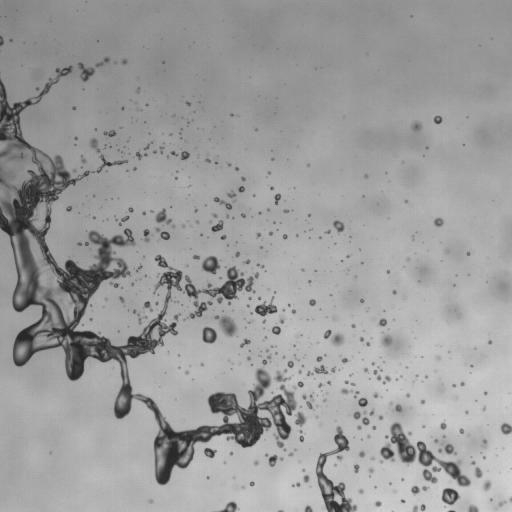droplet: (90, 138, 126, 172), (214, 315, 237, 336), (254, 297, 277, 316), (201, 256, 220, 274), (441, 488, 460, 505), (323, 330, 343, 346), (78, 62, 94, 81), (202, 326, 217, 343), (155, 209, 171, 224), (352, 411, 369, 425), (266, 454, 282, 466), (295, 411, 306, 426), (211, 220, 223, 231), (333, 220, 344, 232), (381, 334, 392, 346), (500, 422, 511, 434), (204, 448, 216, 457), (143, 229, 150, 242), (412, 121, 421, 131), (143, 301, 152, 311), (474, 467, 482, 478), (180, 151, 189, 160), (240, 339, 250, 347), (483, 480, 491, 490), (467, 504, 478, 511), (433, 115, 442, 123), (103, 130, 115, 136), (434, 218, 443, 226), (272, 325, 280, 334), (358, 398, 367, 406), (138, 315, 146, 323), (394, 404, 402, 412), (274, 194, 280, 204), (379, 318, 386, 326), (136, 152, 145, 158), (304, 505, 313, 511), (228, 191, 235, 198), (440, 421, 446, 429), (482, 439, 487, 448), (279, 316, 285, 323), (341, 357, 348, 363), (358, 451, 365, 457), (303, 475, 309, 482), (354, 465, 359, 473), (292, 482, 300, 487), (238, 186, 244, 192), (309, 299, 315, 305), (287, 361, 293, 367), (368, 468, 374, 474), (374, 501, 381, 506), (498, 501, 505, 506), (81, 156, 86, 162), (136, 265, 141, 271), (316, 356, 322, 361), (370, 409, 375, 415), (66, 206, 71, 211), (128, 207, 133, 212), (119, 297, 124, 302), (331, 367, 336, 372), (159, 146, 163, 152), (193, 255, 199, 259), (244, 259, 250, 263), (122, 59, 126, 64), (171, 151, 176, 155), (221, 235, 226, 239), (283, 234, 287, 239), (373, 393, 378, 397), (302, 394, 306, 399), (378, 415, 383, 419), (459, 428, 463, 433), (254, 460, 258, 465), (186, 101, 190, 105), (241, 177, 245, 181), (241, 213, 245, 217), (256, 233, 260, 237), (235, 252, 239, 256), (392, 290, 396, 294), (366, 342, 370, 346), (364, 368, 368, 372), (460, 381, 464, 385), (357, 425, 361, 429), (289, 452, 293, 456), (250, 481, 254, 485), (359, 489, 363, 493), (136, 88, 139, 92), (206, 158, 209, 162), (284, 209, 288, 212), (213, 213, 216, 217), (326, 230, 330, 233), (488, 340, 491, 344), (327, 381, 331, 384), (318, 383, 322, 386), (471, 461, 475, 464), (509, 497, 511, 502), (235, 167, 238, 170), (269, 232, 272, 235), (78, 242, 81, 245), (360, 299, 363, 302), (292, 310, 295, 313), (185, 371, 188, 374), (298, 370, 301, 373), (345, 380, 348, 383), (406, 393, 409, 396), (421, 400, 424, 403), (372, 426, 375, 429), (434, 439, 437, 442), (401, 499, 404, 502), (74, 137, 77, 139), (153, 150, 155, 153), (364, 175, 367, 177), (270, 187, 273, 189), (142, 212, 145, 214), (467, 252, 469, 255), (387, 270, 389, 273), (248, 297, 251, 299), (258, 297, 261, 299), (155, 302, 158, 304), (134, 310, 136, 313), (352, 324, 354, 327), (360, 338, 363, 340), (247, 357, 250, 359), (200, 363, 203, 365), (351, 383, 354, 385), (484, 392, 487, 394), (482, 408, 485, 410), (465, 411, 468, 413), (408, 432, 411, 434), (367, 435, 370, 437), (230, 452, 232, 455), (149, 500, 152, 502), (36, 87, 38, 89), (72, 107, 74, 109), (215, 162, 217, 164), (228, 163, 230, 165), (196, 221, 198, 223), (347, 255, 349, 257), (131, 283, 133, 285), (184, 318, 186, 320), (263, 320, 265, 322), (437, 356, 439, 358), (371, 457, 373, 459)
ligament: (0, 78, 303, 485), (380, 422, 470, 486), (315, 426, 356, 511), (35, 66, 72, 103), (373, 368, 390, 383), (213, 197, 231, 209), (307, 365, 328, 375), (218, 501, 238, 511), (438, 444, 456, 455), (155, 227, 169, 239), (341, 388, 358, 397), (411, 485, 427, 494), (96, 57, 109, 66), (306, 394, 313, 409), (412, 504, 425, 511), (262, 354, 271, 364), (119, 216, 129, 224), (299, 430, 303, 441), (144, 144, 150, 150), (0, 36, 3, 46), (258, 264, 263, 268), (448, 510, 454, 511), (278, 510, 282, 511)
